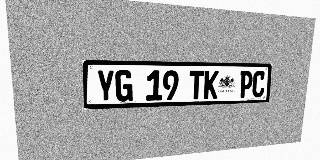1: (146, 70, 163, 101)
9: (163, 70, 179, 100)
C: (251, 71, 266, 97)
G: (115, 70, 133, 102)
K: (203, 71, 219, 99)
P: (239, 71, 253, 98)
T: (189, 70, 204, 99)
Y: (96, 70, 115, 102)
